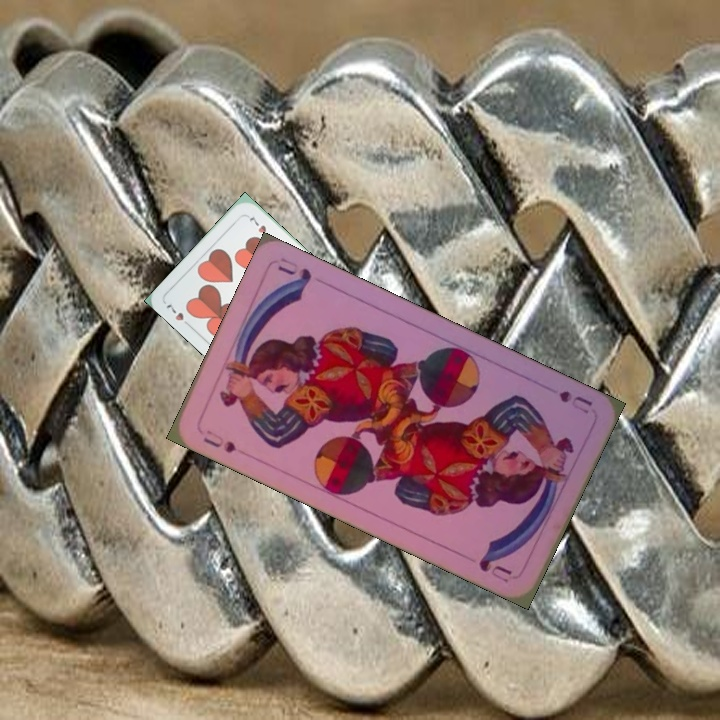H7: (162, 300, 195, 331)
SU: (554, 386, 596, 417), (199, 426, 240, 456)
